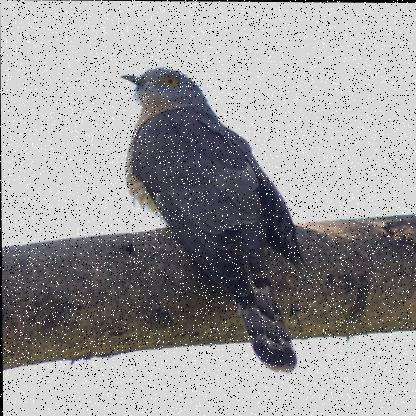Burung: (121, 67, 314, 372)
